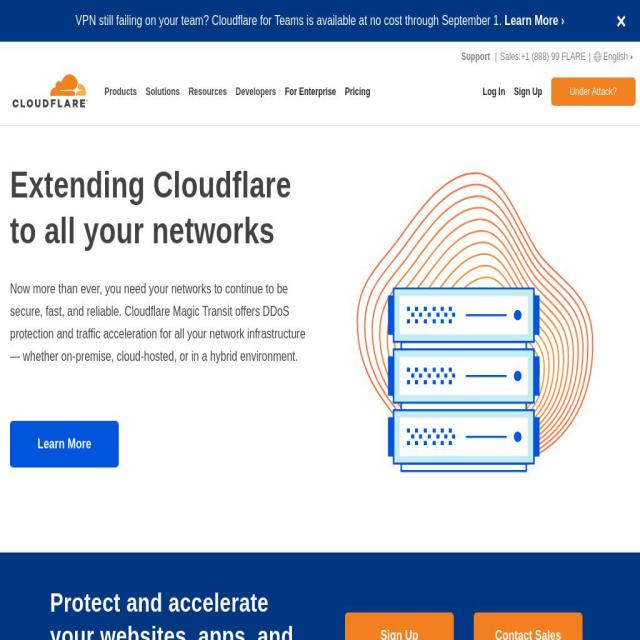button: (0, 58, 100, 125), (10, 421, 119, 468), (280, 59, 341, 122), (345, 612, 454, 640), (473, 612, 582, 640), (550, 77, 636, 106), (509, 59, 547, 122), (340, 59, 375, 122), (478, 59, 510, 122), (504, 11, 565, 31), (521, 49, 586, 66), (594, 49, 634, 66)
heading: (10, 162, 320, 253), (50, 586, 300, 640)
image: (356, 172, 594, 472), (10, 70, 90, 111), (594, 52, 602, 62)
link: (461, 51, 490, 67), (500, 51, 521, 67)
text: (10, 277, 310, 368), (75, 14, 505, 28), (231, 58, 281, 125), (184, 58, 232, 125), (100, 58, 142, 125), (142, 58, 184, 125), (603, 51, 631, 62), (630, 54, 634, 72), (494, 49, 498, 66), (589, 49, 591, 66)
